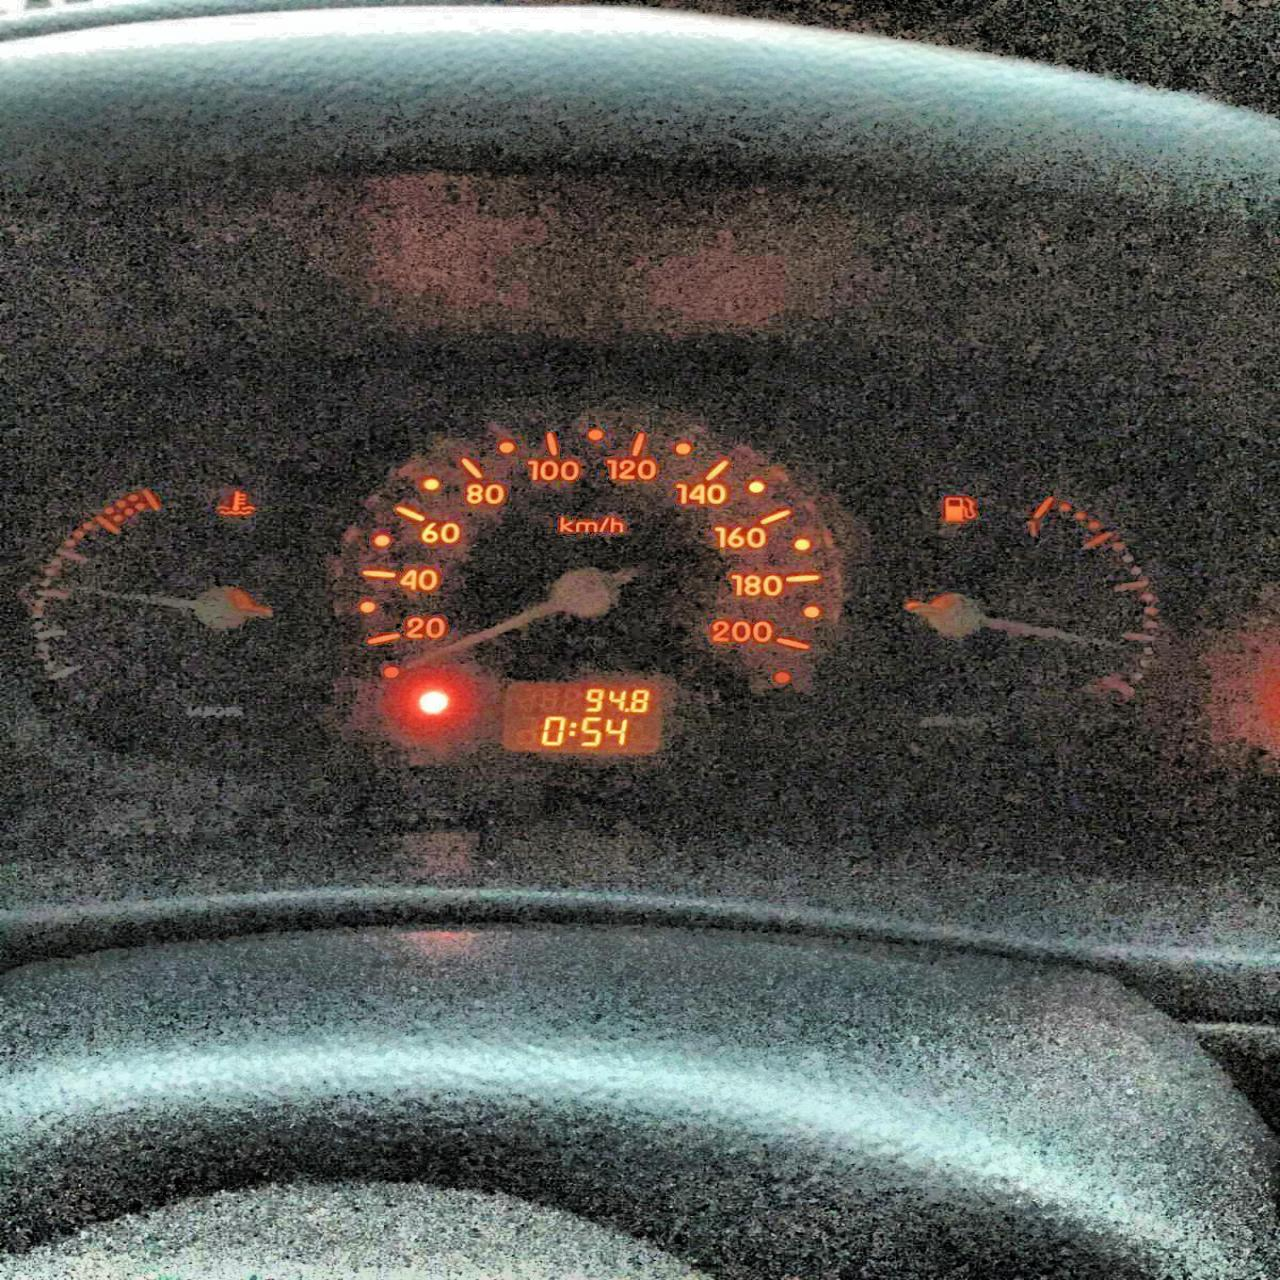-: (622, 707, 629, 712)
0: (539, 716, 565, 745)
4: (604, 717, 627, 744), (607, 689, 626, 710)
5: (579, 716, 601, 745)
8: (629, 689, 648, 712)
9: (584, 688, 604, 712)
X: (567, 722, 576, 736)
odometer: (497, 679, 665, 757)
